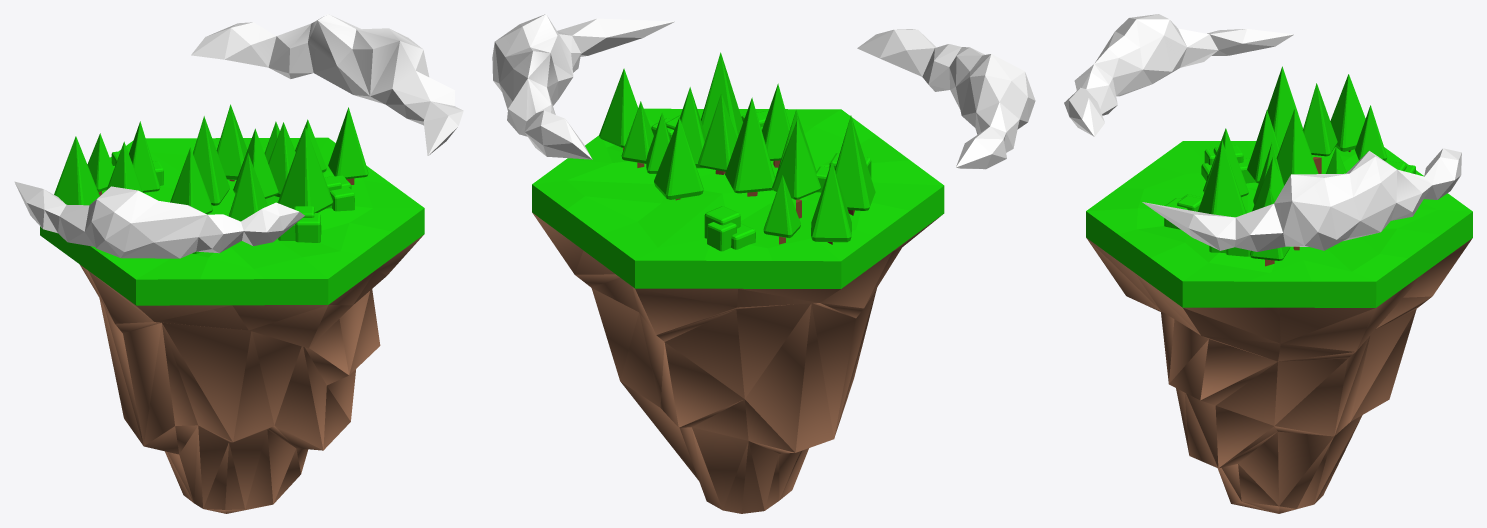
Rendered from vento (floresta).fbx.
3 renders of one model, left to right at view 1: azimuth 30°, elevation 25°; view 2: azimuth 150°, elevation 25°; view 3: azimuth 270°, elevation 25°, orthographic. The views are drawn at different scales.
Parts seen in each view (by area): view 1: vento (Floresta); view 2: vento (Floresta); view 3: vento (Floresta).
Part boxes in pixels (bbox=[...]): vento (Floresta): bbox=[14, 14, 463, 513]; vento (Floresta): bbox=[492, 14, 1035, 513]; vento (Floresta): bbox=[1064, 14, 1472, 513].
Size of the model in its own units: 1468 by 1394 by 1199.
